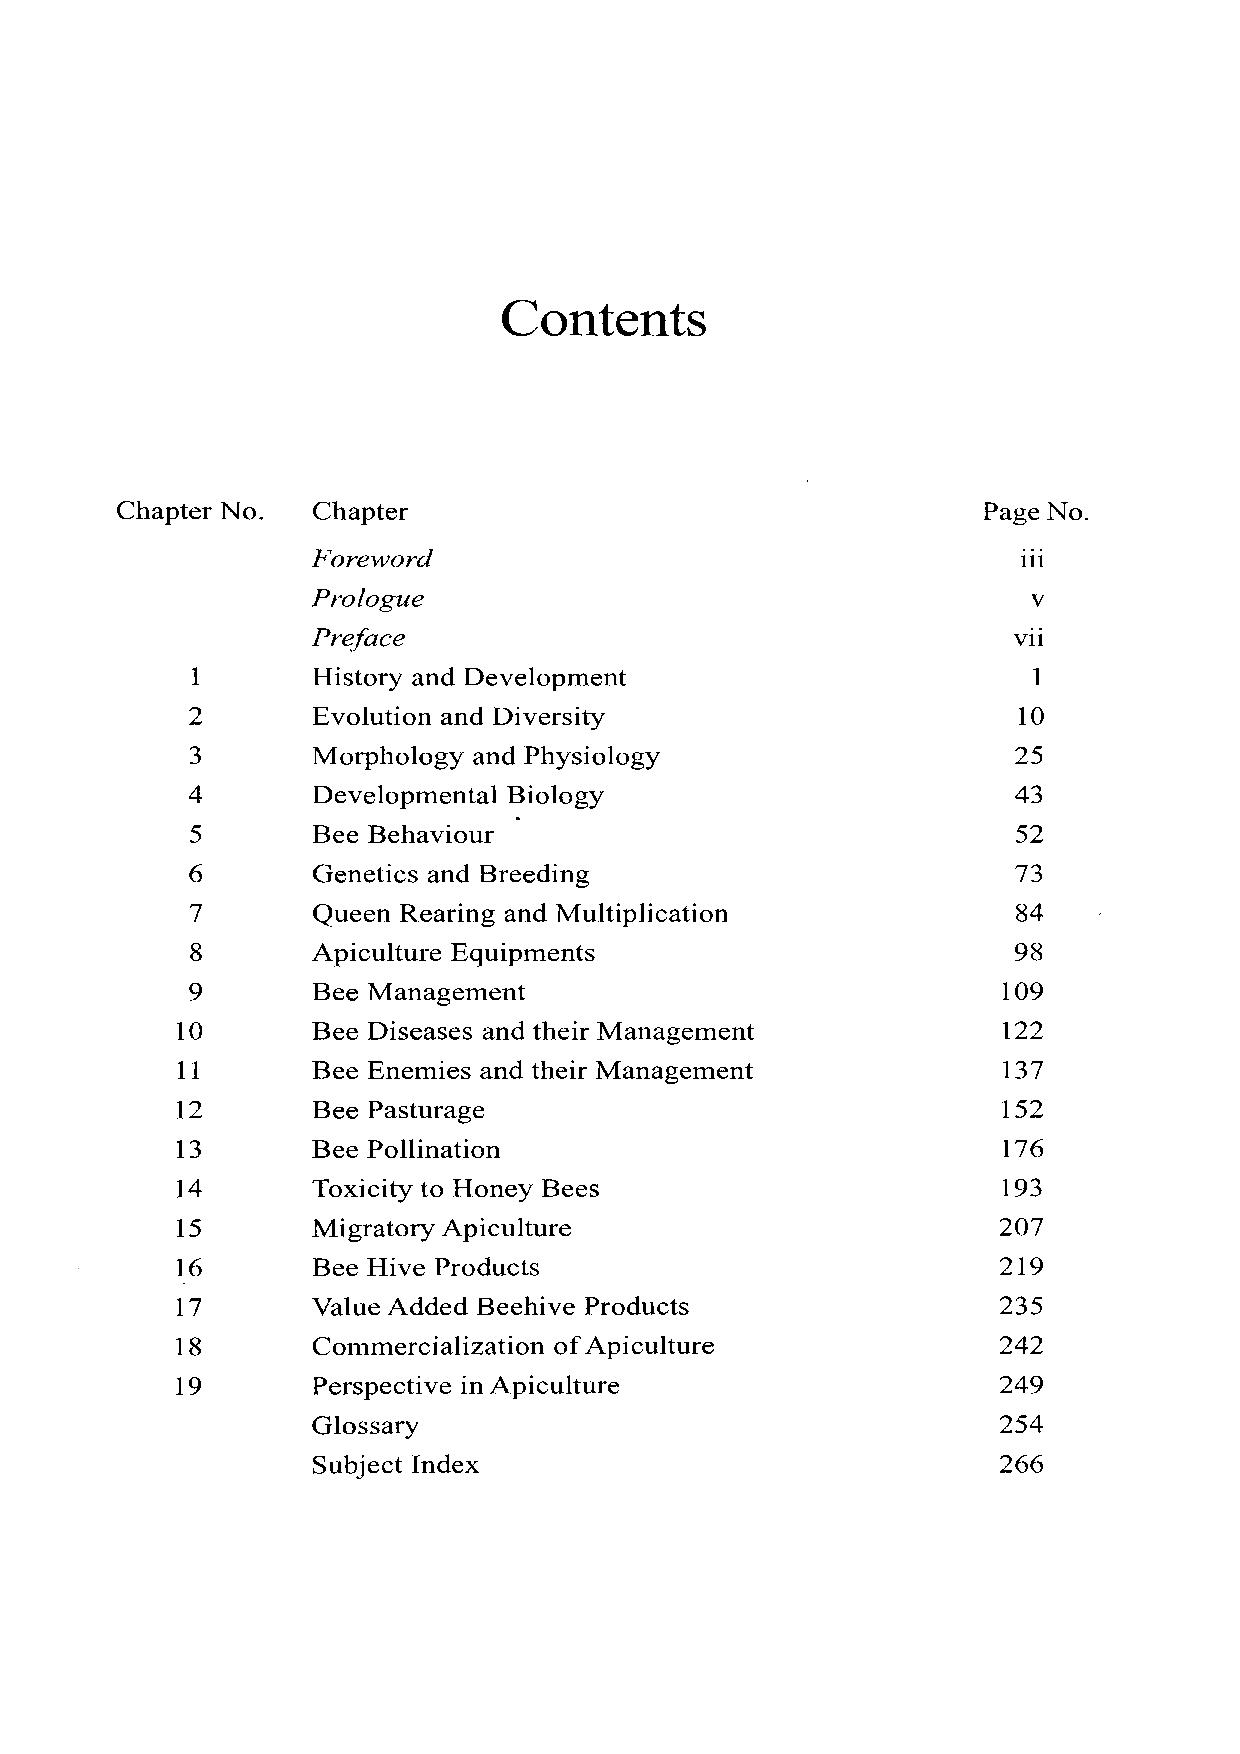TOC_chapter: (172, 1055, 757, 1084), (173, 1019, 756, 1045), (188, 900, 731, 929), (187, 741, 666, 770), (173, 1292, 691, 1318), (184, 937, 601, 968), (184, 702, 612, 731), (188, 663, 633, 691), (172, 1333, 713, 1355), (187, 858, 592, 887), (173, 1373, 619, 1400), (184, 780, 607, 807), (170, 1215, 578, 1241), (174, 1176, 604, 1200), (183, 978, 539, 1007), (174, 1134, 506, 1164), (173, 1253, 544, 1279), (173, 1096, 488, 1125), (187, 819, 497, 847), (307, 1453, 482, 1479), (310, 546, 443, 569), (309, 582, 425, 608), (307, 1413, 421, 1439), (310, 625, 407, 651)
TOC_pagenumber: (997, 1013, 1051, 1043), (1000, 1172, 1047, 1200), (996, 1449, 1044, 1476), (997, 977, 1045, 1002), (998, 1095, 1049, 1119), (997, 1251, 1044, 1276), (994, 1370, 1043, 1394), (996, 1331, 1044, 1355), (998, 1212, 1041, 1239), (997, 1057, 1047, 1080), (997, 1292, 1043, 1317), (998, 1410, 1043, 1435), (1012, 935, 1045, 966), (1002, 1135, 1045, 1158), (1012, 820, 1049, 845), (1009, 625, 1045, 650), (1012, 743, 1047, 768), (1013, 862, 1048, 886), (1013, 546, 1049, 568), (1016, 703, 1047, 727), (1012, 900, 1043, 923), (1016, 785, 1045, 804), (1027, 582, 1048, 607), (1028, 664, 1047, 684)
chapter: (501, 294, 717, 345)
